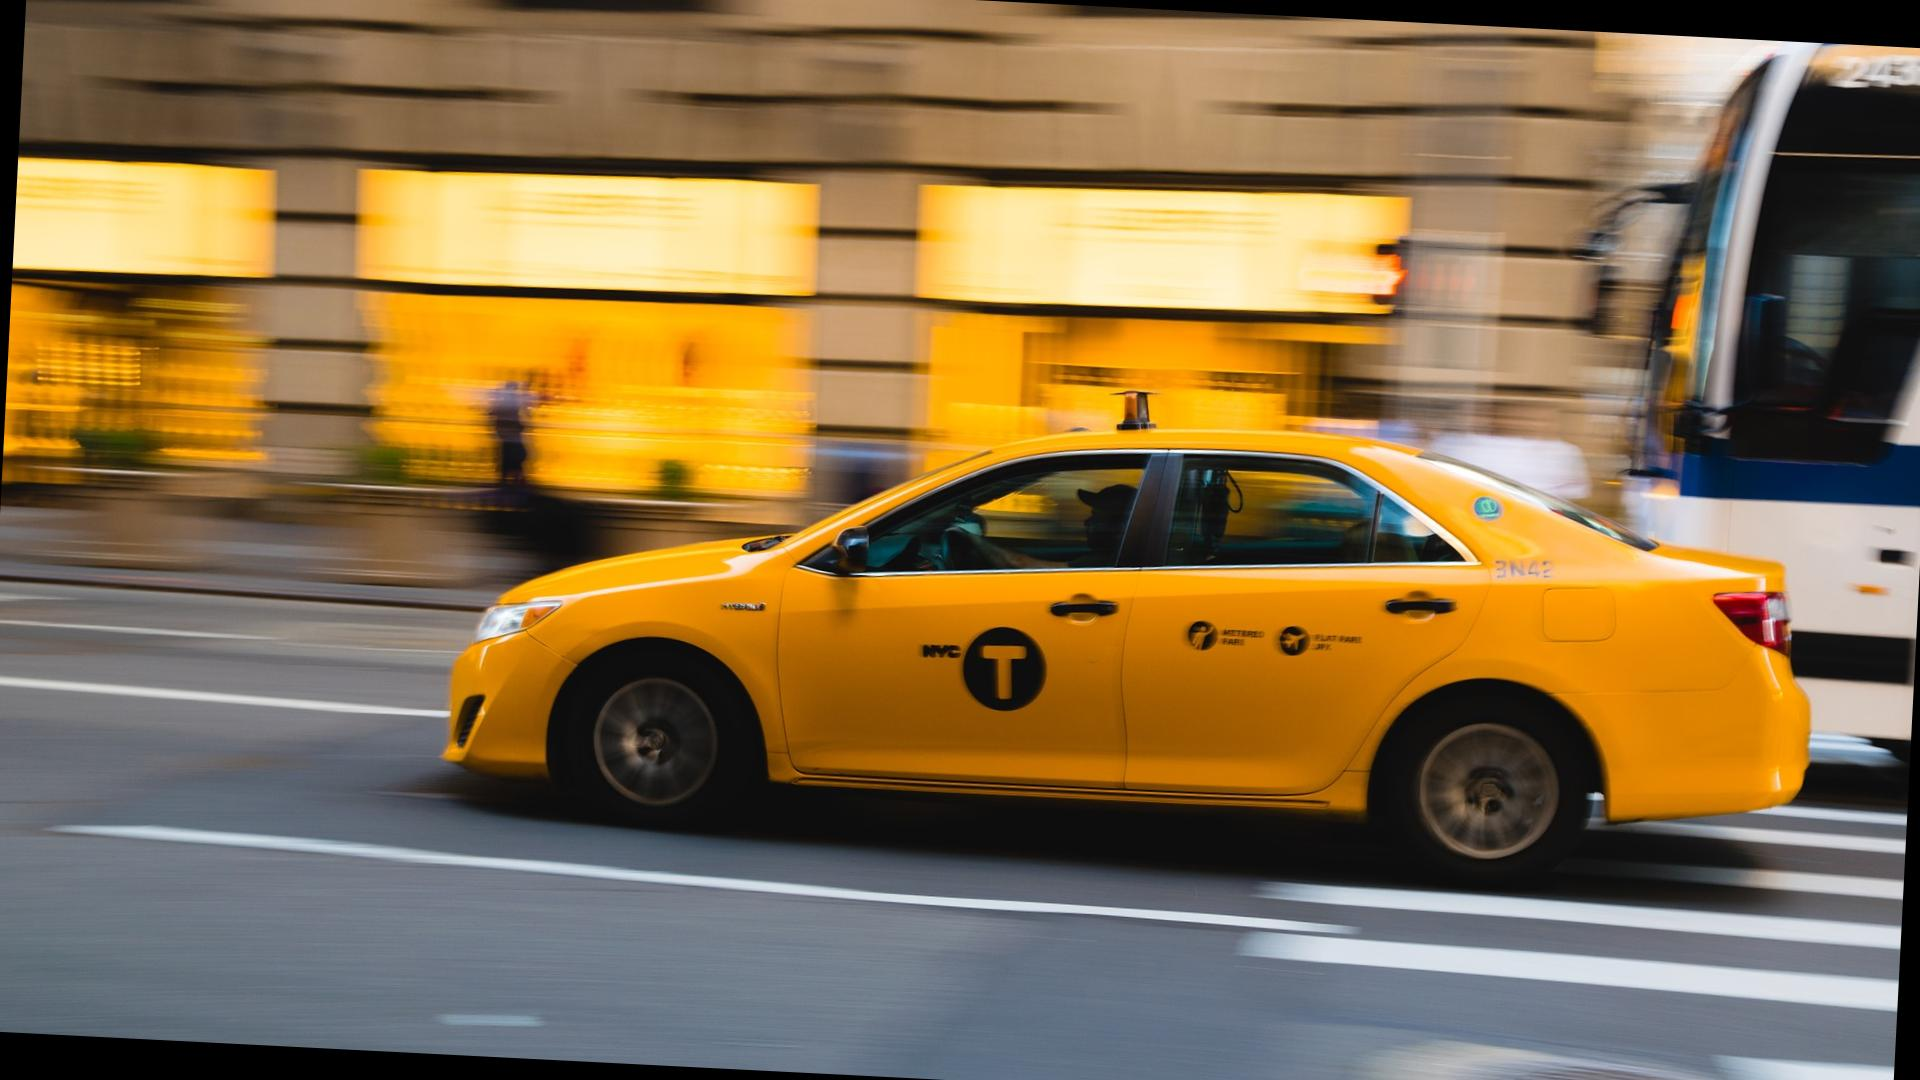taxi: (444, 444, 1820, 882)
